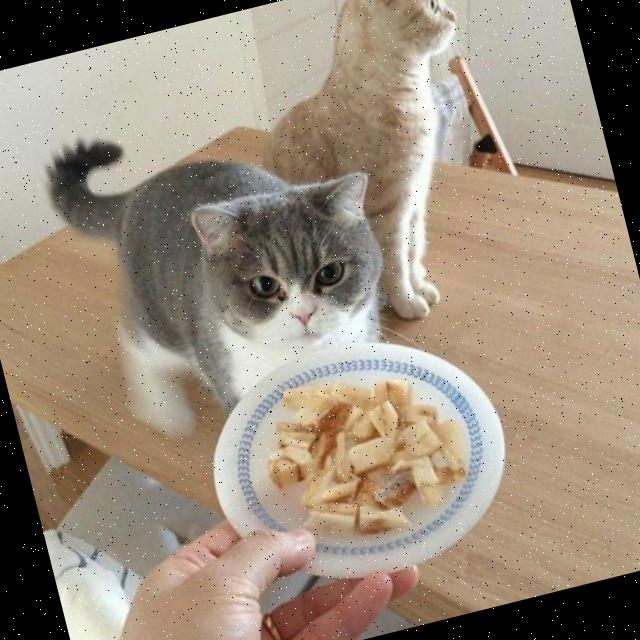cat: (0, 44, 415, 474), (199, 0, 549, 358)
